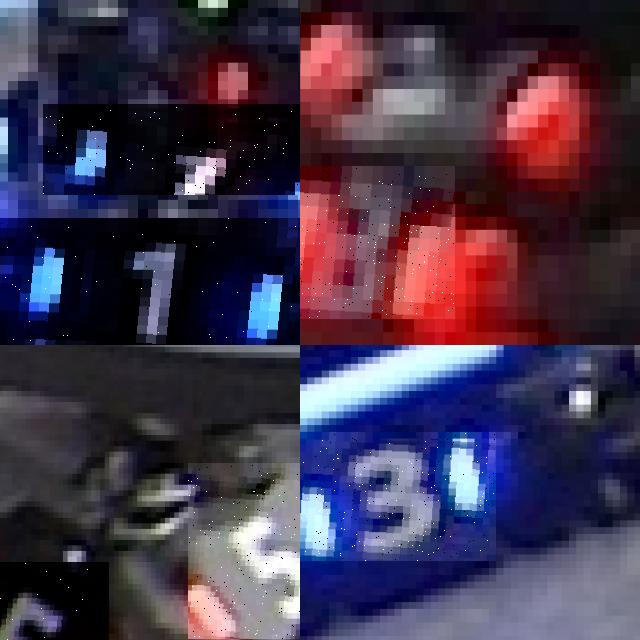B1: (0, 218, 300, 345), (43, 103, 300, 195)
B3: (300, 431, 496, 561)
R3: (300, 165, 455, 319)
R5: (188, 462, 300, 639), (0, 562, 109, 640)
